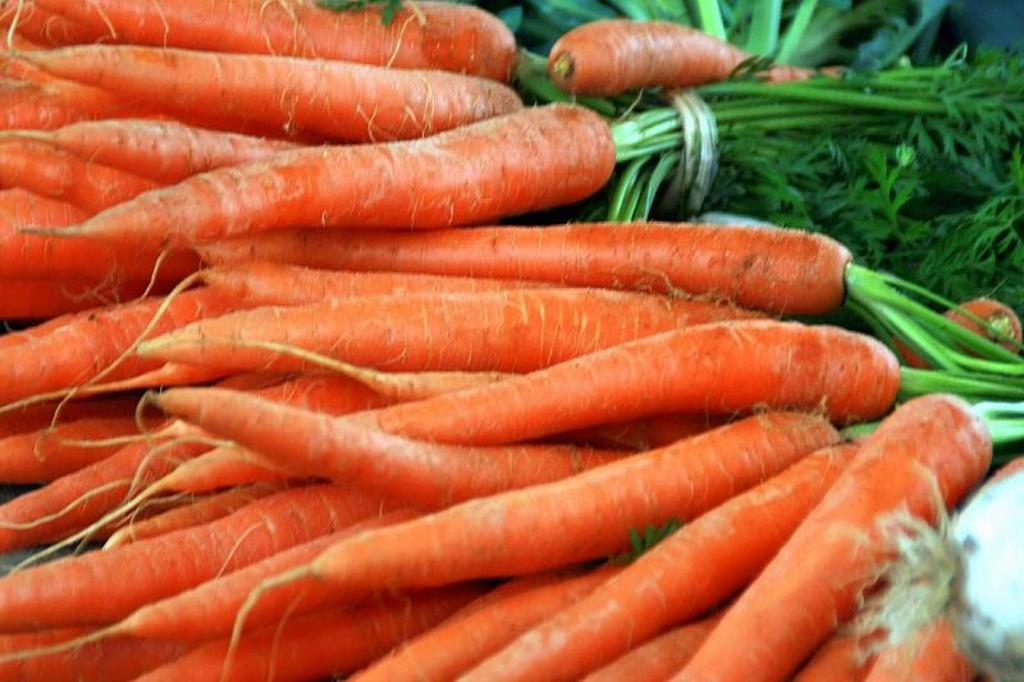Carrot: (0, 0, 1024, 682)
